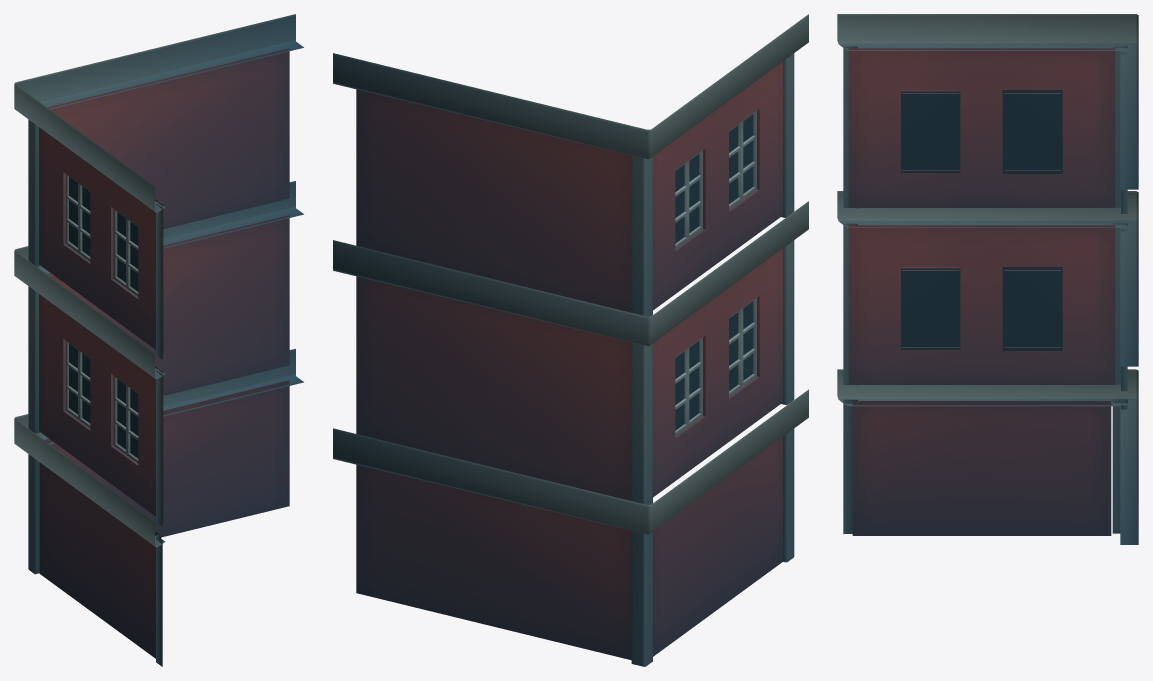
Rendered from BackgroundBuilding01.fbx.
3 renders of one model, left to right at view 1: azimuth 30°, elevation 25°; view 2: azimuth 150°, elevation 25°; view 3: azimuth 270°, elevation 25°, orthographic. The views are drawn at different scales.
Visible parts, largest first — view 1: BackgroundBuilding01; view 2: BackgroundBuilding01; view 3: BackgroundBuilding01.
Boxes of the visible parts, <box> form: BackgroundBuilding01: <box>14,14,303,666</box>; BackgroundBuilding01: <box>333,14,808,666</box>; BackgroundBuilding01: <box>837,14,1138,544</box>.
Size of the model in its own units: 1060 by 1738 by 921.
